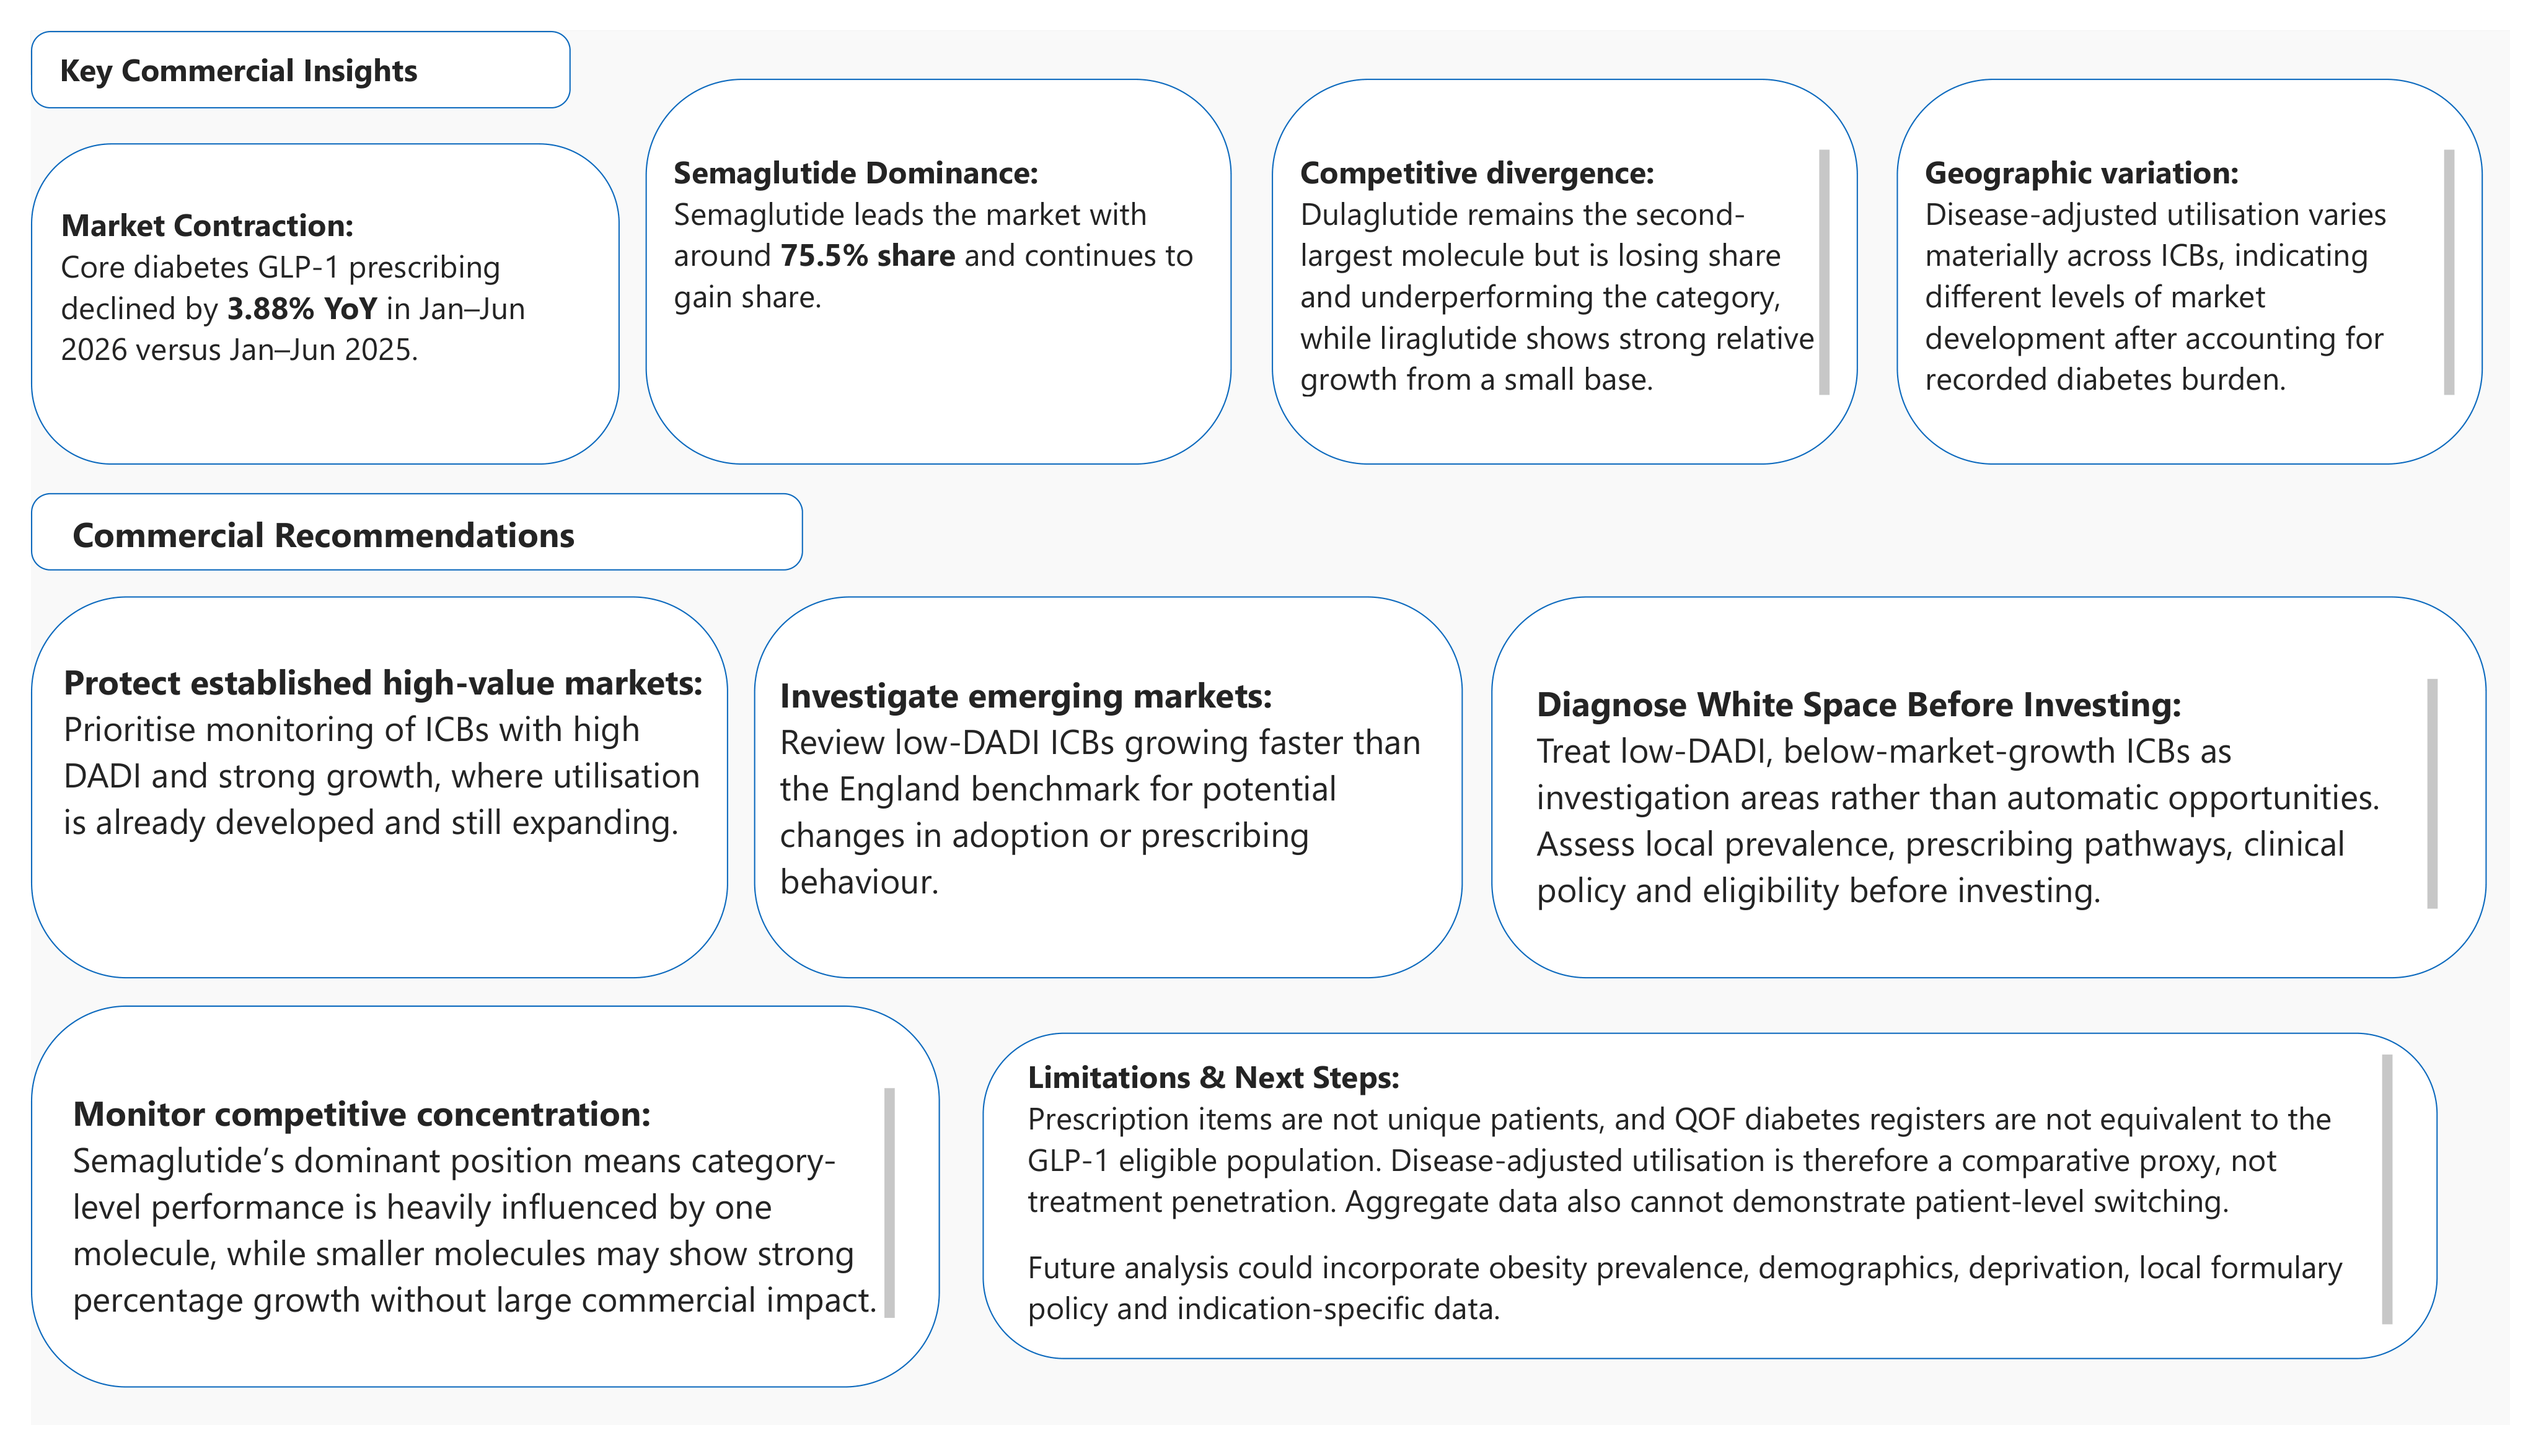

The page's visual inventory and layout, read from the dashboard file:
{"tool":"powerbi","page":{"name":"Commercial Insights, Recommendations & Limitations","canvas":[1920,1080],"ordinal":3},"visuals":[{"type":"shape","box":[0,0,417.8,60],"z":0,"group":"g1"},{"type":"group","id":"g1","title":"Group 2","box":[0,0,417.8,60],"z":0},{"type":"shape","box":[476.5,37.3,453.8,299.1],"z":0,"group":"g3"},{"type":"shape","box":[960.8,37.3,453.8,299.1],"z":0,"group":"g4"},{"type":"shape","box":[1445.1,37.3,453.8,299.1],"z":0,"group":"g5"},{"type":"shape","box":[0,86.7,455.6,248.9],"z":0,"group":"g2"},{"type":"shape","box":[0,357.8,597.8,60],"z":0,"group":"g6"},{"type":"shape","box":[0,437.8,540,295.6],"z":0,"group":"g7"},{"type":"shape","box":[560,437.8,548.9,295.6],"z":0,"group":"g8"},{"type":"shape","box":[1131.1,437.8,771.1,295.6],"z":0,"group":"g9"},{"type":"shape","box":[0,754.9,704.4,295.6],"z":0,"group":"g10"},{"type":"shape","box":[737.3,776.5,1127.5,252.9],"z":0,"group":"g11"},{"type":"textbox","box":[22.5,13.3,294.2,46.7],"z":1000,"group":"g1"},{"type":"group","id":"g2","title":"Group 1","box":[0,86.7,455.6,248.9],"z":1000},{"type":"textbox","box":[499,92.6,409.3,190.8],"z":1000,"group":"g3"},{"type":"textbox","box":[983.3,92.6,409.3,190.8],"z":1000,"group":"g4"},{"type":"textbox","box":[1467.6,92.6,409.3,190.8],"z":1000,"group":"g5"},{"type":"textbox","box":[22.6,132.7,410.8,158.7],"z":1000,"group":"g2"},{"type":"textbox","box":[32.1,371.1,421,46.7],"z":1000,"group":"g6"},{"type":"textbox","box":[25.5,485.3,500,211.8],"z":1000,"group":"g7"},{"type":"textbox","box":[579.6,495.1,525.5,190.2],"z":1000,"group":"g8"},{"type":"textbox","box":[1165.7,501.5,698,178.9],"z":1000,"group":"g9"},{"type":"textbox","box":[772.1,793.2,1056.9,219.6],"z":1000,"group":"g11"},{"type":"textbox","box":[31.6,818.6,637.6,178.9],"z":1000,"group":"g10"},{"type":"group","id":"g3","title":"Group 1","box":[476.5,37.3,454.9,298],"z":2000},{"type":"group","id":"g4","title":"Group 1","box":[960.8,37.3,454.9,298],"z":3000},{"type":"group","id":"g5","title":"Group 1","box":[1445.1,37.3,454.9,298],"z":4000},{"type":"group","id":"g6","title":"Group 2","box":[0,357.8,597.8,60],"z":5000},{"type":"group","id":"g7","title":"Group 1","box":[0,437.8,540,295.6],"z":6000},{"type":"group","id":"g8","title":"Group 1","box":[560,437.8,548.9,295.6],"z":7000},{"type":"group","id":"g9","title":"Group 1","box":[1131.1,437.8,771.1,295.6],"z":7001},{"type":"group","id":"g10","title":"Group 1","box":[0,754.9,703.9,296.1],"z":7002},{"type":"group","id":"g11","title":"Group 1","box":[737.3,776.5,1127.5,252.9],"z":7003}]}

Visuals, with their boxes on the page's 1920x1080 design canvas (x1, y1, x2, y2). These are canvas units, not pixel positions in the 2541x1456 screenshot, which may show the page scaled, cropped or inside an application window:
shape: {"x1": 0, "y1": 0, "x2": 418, "y2": 60}
"Group 2" group: {"x1": 0, "y1": 0, "x2": 418, "y2": 60}
shape: {"x1": 476, "y1": 37, "x2": 930, "y2": 336}
shape: {"x1": 961, "y1": 37, "x2": 1415, "y2": 336}
shape: {"x1": 1445, "y1": 37, "x2": 1899, "y2": 336}
shape: {"x1": 0, "y1": 87, "x2": 456, "y2": 336}
shape: {"x1": 0, "y1": 358, "x2": 598, "y2": 418}
shape: {"x1": 0, "y1": 438, "x2": 540, "y2": 733}
shape: {"x1": 560, "y1": 438, "x2": 1109, "y2": 733}
shape: {"x1": 1131, "y1": 438, "x2": 1902, "y2": 733}
shape: {"x1": 0, "y1": 755, "x2": 704, "y2": 1050}
shape: {"x1": 737, "y1": 776, "x2": 1865, "y2": 1029}
textbox: {"x1": 22, "y1": 13, "x2": 317, "y2": 60}
"Group 1" group: {"x1": 0, "y1": 87, "x2": 456, "y2": 336}
textbox: {"x1": 499, "y1": 93, "x2": 908, "y2": 283}
textbox: {"x1": 983, "y1": 93, "x2": 1393, "y2": 283}
textbox: {"x1": 1468, "y1": 93, "x2": 1877, "y2": 283}
textbox: {"x1": 23, "y1": 133, "x2": 433, "y2": 291}
textbox: {"x1": 32, "y1": 371, "x2": 453, "y2": 418}
textbox: {"x1": 26, "y1": 485, "x2": 526, "y2": 697}
textbox: {"x1": 580, "y1": 495, "x2": 1105, "y2": 685}
textbox: {"x1": 1166, "y1": 502, "x2": 1864, "y2": 680}
textbox: {"x1": 772, "y1": 793, "x2": 1829, "y2": 1013}
textbox: {"x1": 32, "y1": 819, "x2": 669, "y2": 998}
"Group 1" group: {"x1": 476, "y1": 37, "x2": 931, "y2": 335}
"Group 1" group: {"x1": 961, "y1": 37, "x2": 1416, "y2": 335}
"Group 1" group: {"x1": 1445, "y1": 37, "x2": 1900, "y2": 335}
"Group 2" group: {"x1": 0, "y1": 358, "x2": 598, "y2": 418}
"Group 1" group: {"x1": 0, "y1": 438, "x2": 540, "y2": 733}
"Group 1" group: {"x1": 560, "y1": 438, "x2": 1109, "y2": 733}
"Group 1" group: {"x1": 1131, "y1": 438, "x2": 1902, "y2": 733}
"Group 1" group: {"x1": 0, "y1": 755, "x2": 704, "y2": 1051}
"Group 1" group: {"x1": 737, "y1": 776, "x2": 1865, "y2": 1029}
